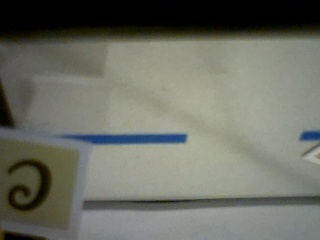C: (0, 135, 80, 228)
